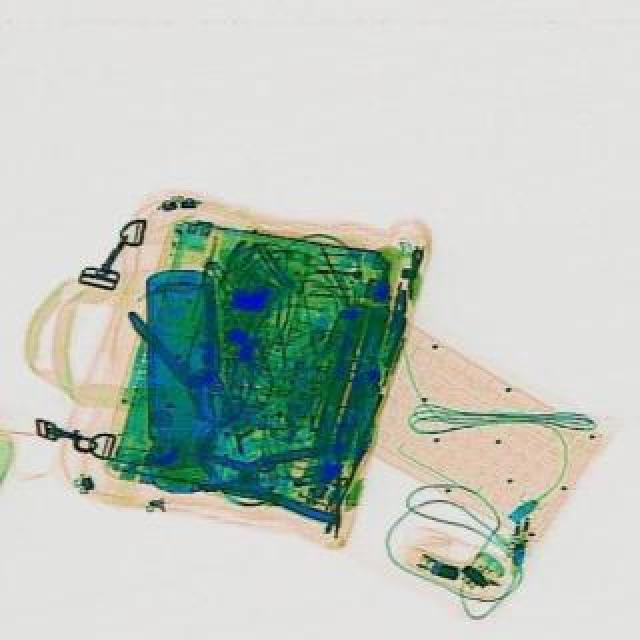wrench: (120, 276, 266, 434), (190, 432, 354, 522)
